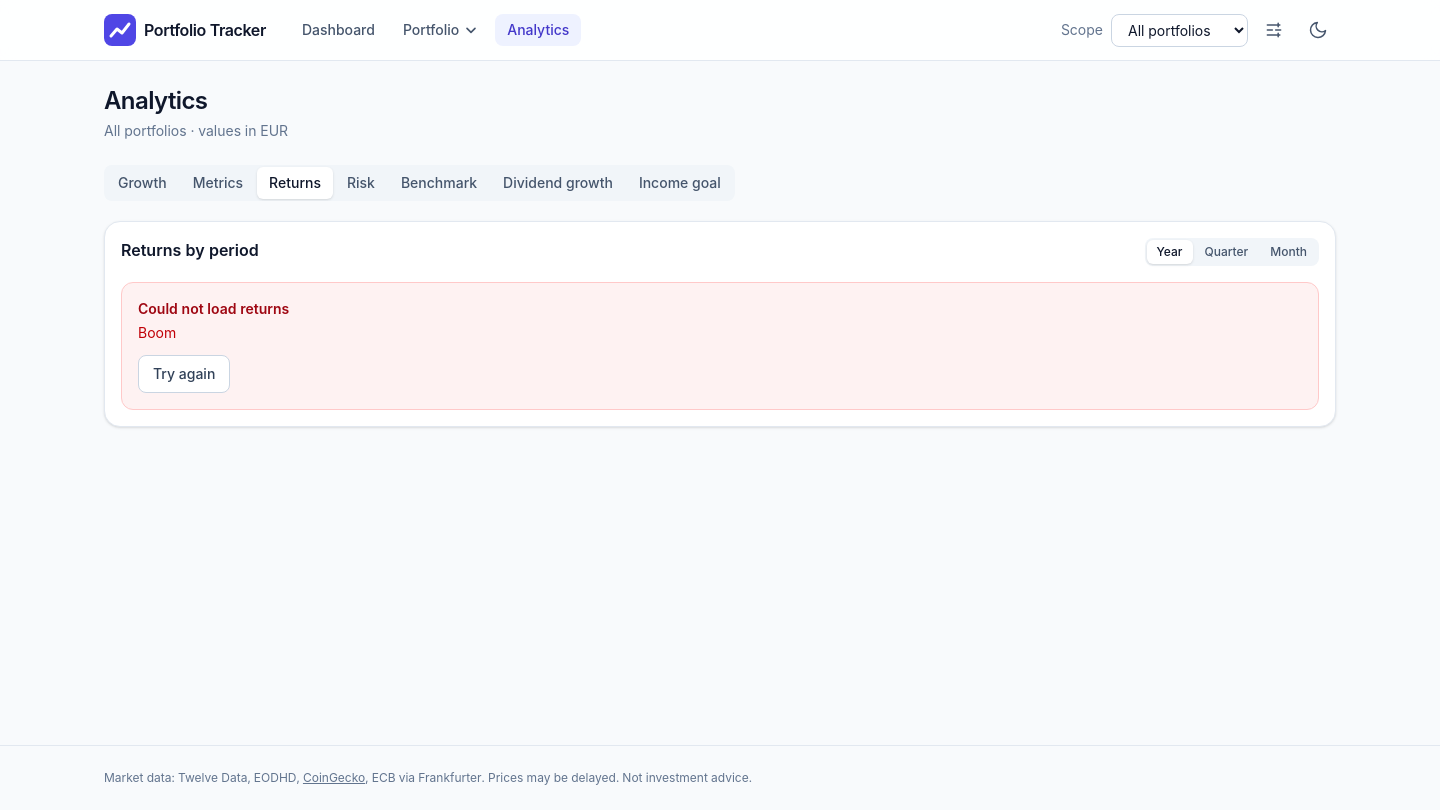
Test case: AnalyticsPage › shows an error with retry
expect the message shows "Could not load returns": met, box [138,300,289,317]
Click the button "Try again".
click(184, 374)  # box [138,355,230,393]
(page scrolled)
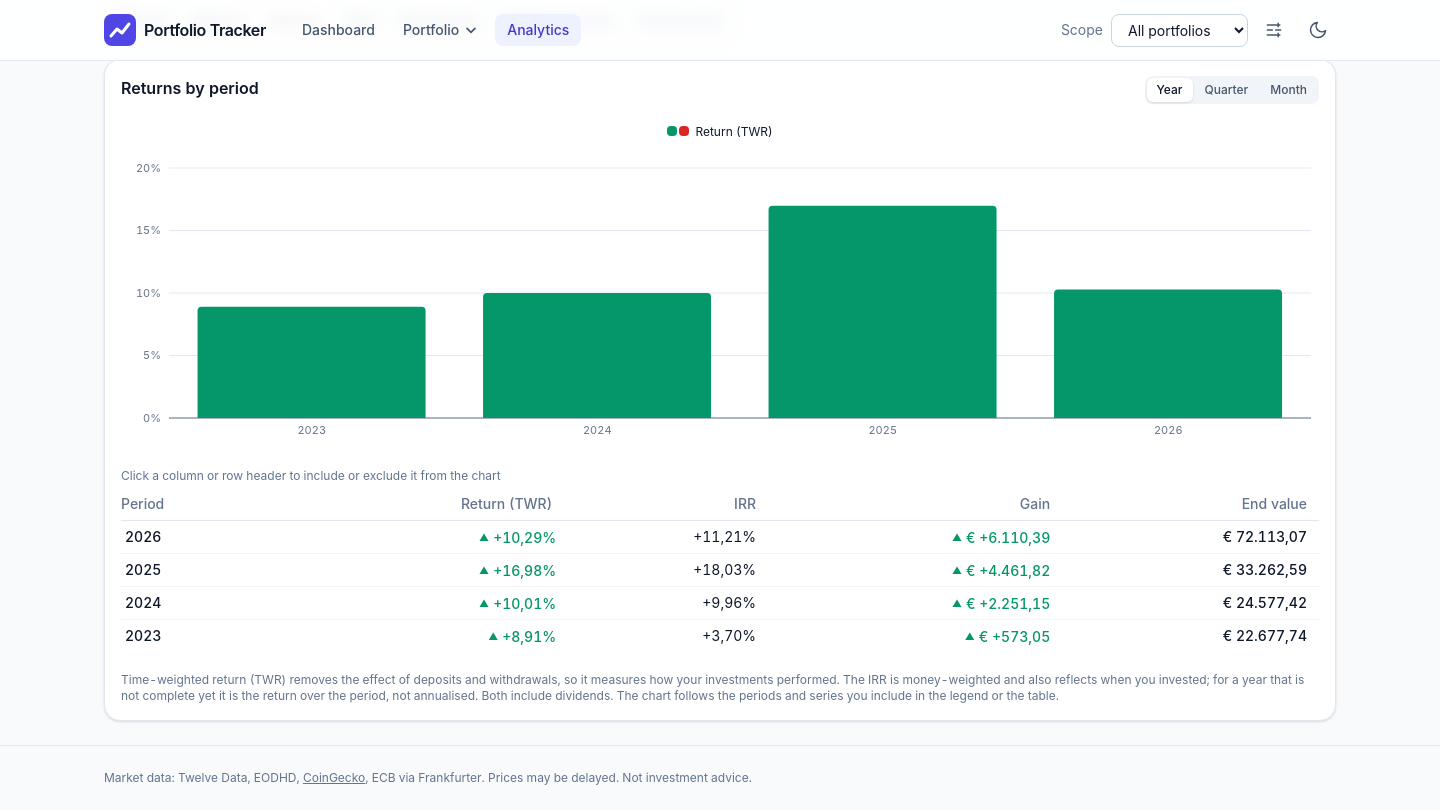
expect the table named "Returns per year" is shown: met, box [121,488,1319,652]
